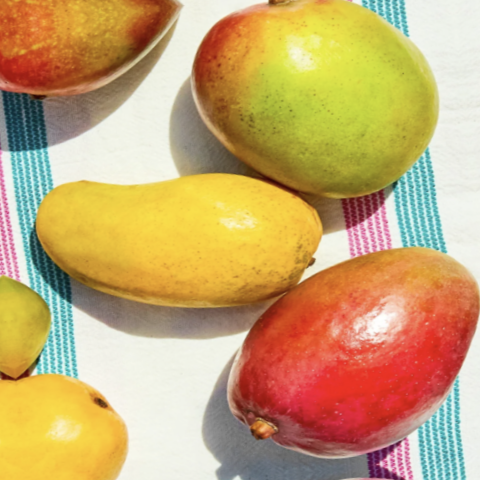mango: (164, 222, 480, 480), (133, 0, 469, 230), (9, 139, 357, 345)
